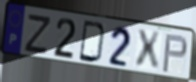2: (106, 24, 134, 71), (52, 17, 78, 62)
D: (77, 19, 107, 65)
P: (161, 33, 189, 75)
X: (135, 29, 162, 72)
Z: (22, 14, 53, 57)
